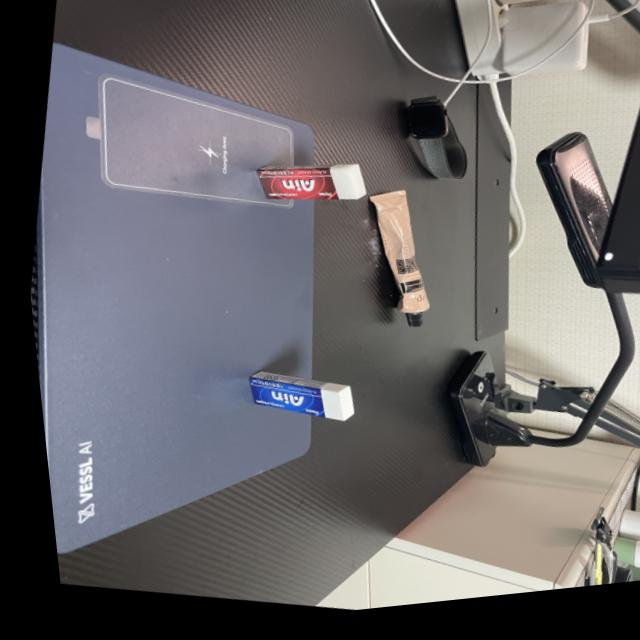blue: (225, 355, 369, 447)
red: (236, 141, 382, 241)
